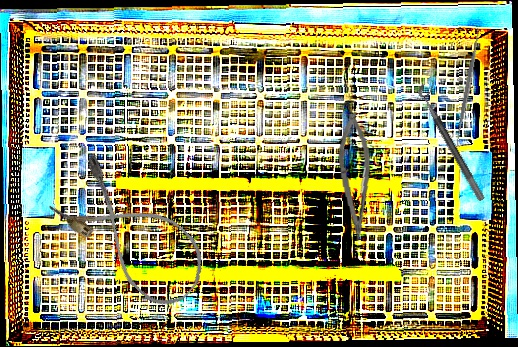Cannula: (45, 150, 219, 318)
Fixation Ring: (415, 79, 495, 202)
Micro Scissor: (333, 112, 380, 242)
Spatula Surgical: (450, 27, 486, 148)
